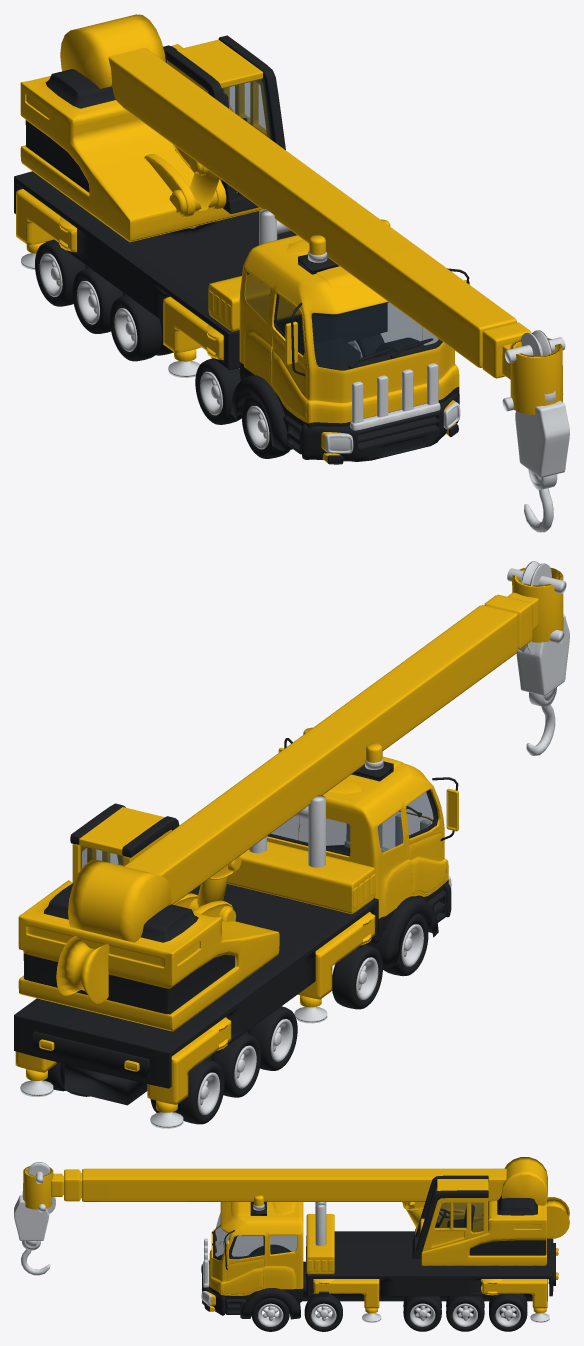
Rendered from guindaste-caminhao.glb.
3 views of the same model, one above another, from view 1: azimuth 30°, elevation 25°; view 2: azimuth 150°, elevation 25°; view 3: azimuth 270°, elevation 25° (orthographic). The views are drawn at different scales.
Visible parts, largest first — view 1: chassi-preto, lanca-base-amarelo, chassi-amarelo, torre-amarelo, chassi-branco, torre-preto, chassi-vidro, gancho-branco, lanca-ponta-amarelo, torre-vidro, lanca-extensao-amarelo, lanca-ponta-branco (+1 smaller); view 2: chassi-preto, lanca-base-amarelo, torre-amarelo, chassi-amarelo, torre-preto, chassi-branco, gancho-branco, chassi-vidro, lanca-ponta-amarelo, lanca-extensao-amarelo, lanca-ponta-branco; view 3: chassi-preto, lanca-base-amarelo, chassi-amarelo, torre-amarelo, chassi-branco, torre-preto, gancho-branco, chassi-vidro, torre-vidro, lanca-ponta-amarelo, lanca-extensao-amarelo, lanca-ponta-branco.
Boxes of the visible parts, x1,y1,x2,y2 form: chassi-preto: [14, 171, 469, 464]; lanca-base-amarelo: [108, 48, 516, 367]; chassi-amarelo: [16, 189, 469, 462]; torre-amarelo: [20, 14, 270, 242]; chassi-branco: [21, 209, 460, 453]; torre-preto: [25, 35, 285, 236]; chassi-vidro: [245, 272, 438, 365]; gancho-branco: [515, 390, 569, 532]; lanca-ponta-amarelo: [510, 338, 562, 414]; torre-vidro: [222, 78, 272, 195]; lanca-extensao-amarelo: [482, 322, 531, 379]; lanca-ponta-branco: [502, 330, 565, 411]; chassi-preto: [14, 738, 458, 1124]; lanca-base-amarelo: [124, 605, 517, 904]; torre-amarelo: [18, 807, 279, 1031]; chassi-amarelo: [15, 727, 458, 1112]; torre-preto: [23, 803, 234, 1014]; chassi-branco: [20, 758, 451, 1128]; gancho-branco: [516, 614, 569, 755]; chassi-vidro: [271, 792, 433, 852]; lanca-ponta-amarelo: [512, 567, 563, 642]; lanca-extensao-amarelo: [484, 592, 538, 649]; lanca-ponta-branco: [507, 561, 566, 654]; chassi-preto: [202, 1202, 555, 1331]; lanca-base-amarelo: [82, 1168, 506, 1210]; chassi-amarelo: [206, 1195, 558, 1313]; torre-amarelo: [415, 1157, 569, 1265]; chassi-branco: [201, 1202, 549, 1326]; torre-preto: [412, 1175, 546, 1258]; gancho-branco: [14, 1191, 50, 1275]; chassi-vidro: [215, 1213, 297, 1258]; torre-vidro: [418, 1182, 483, 1239]; lanca-ponta-amarelo: [23, 1166, 53, 1209]; lanca-extensao-amarelo: [51, 1169, 81, 1201]; lanca-ponta-branco: [28, 1162, 55, 1213].
Size of the model in its own units: 2.95 by 3.91 by 13.55.
